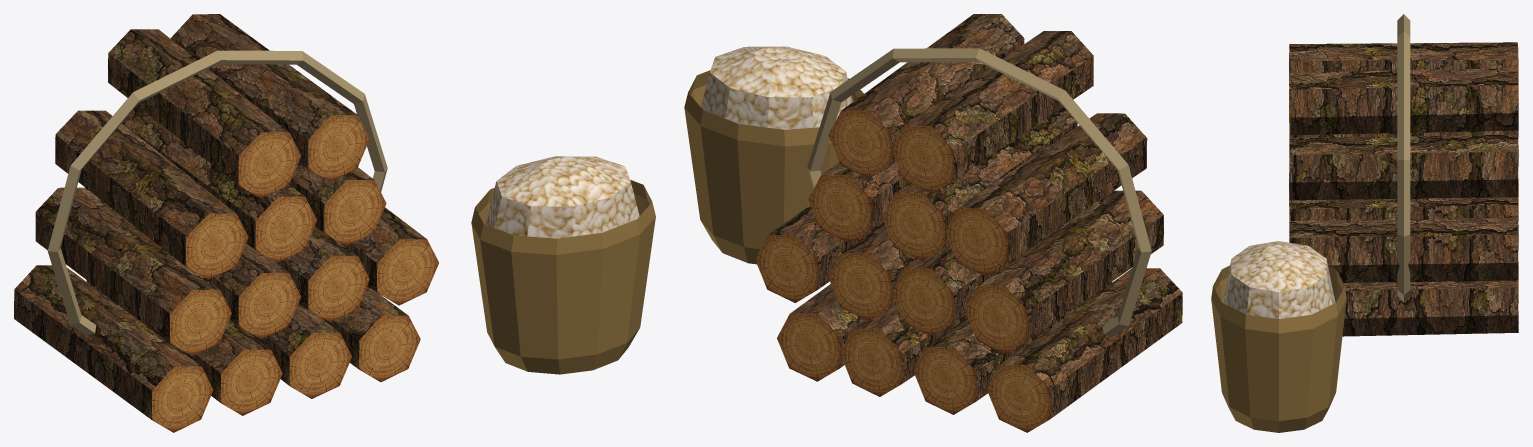
The model's file is forest02-props.glb.
The picture shows the model from 3 angles, left to right: view 1: azimuth 30°, elevation 25°; view 2: azimuth 150°, elevation 25°; view 3: azimuth 270°, elevation 25°; orthographic projection. The views are drawn at different scales.
Visible parts, largest first — view 1: woodpile, basket, wool, woodpile_rope; view 2: woodpile, basket, wool, woodpile_rope; view 3: woodpile, basket, wool, woodpile_rope.
Boxes of the visible parts, bbox=[...] form: woodpile: bbox=[14, 14, 438, 432]; basket: bbox=[471, 180, 655, 374]; wool: bbox=[485, 156, 639, 238]; woodpile_rope: bbox=[47, 50, 387, 335]; woodpile: bbox=[755, 14, 1182, 432]; basket: bbox=[684, 70, 863, 264]; wool: bbox=[701, 46, 853, 129]; woodpile_rope: bbox=[807, 48, 1151, 337]; woodpile: bbox=[1289, 42, 1518, 336]; basket: bbox=[1211, 265, 1346, 432]; wool: bbox=[1222, 241, 1335, 318]; woodpile_rope: bbox=[1397, 14, 1410, 301].
Bounding box in the file's own units: 1.45 × 0.836 × 0.862.
5 materials, 3 textured.
